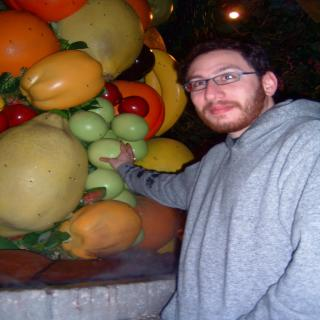Orange: (0, 8, 62, 79), (130, 193, 183, 252), (8, 0, 88, 25), (126, 0, 153, 33)
